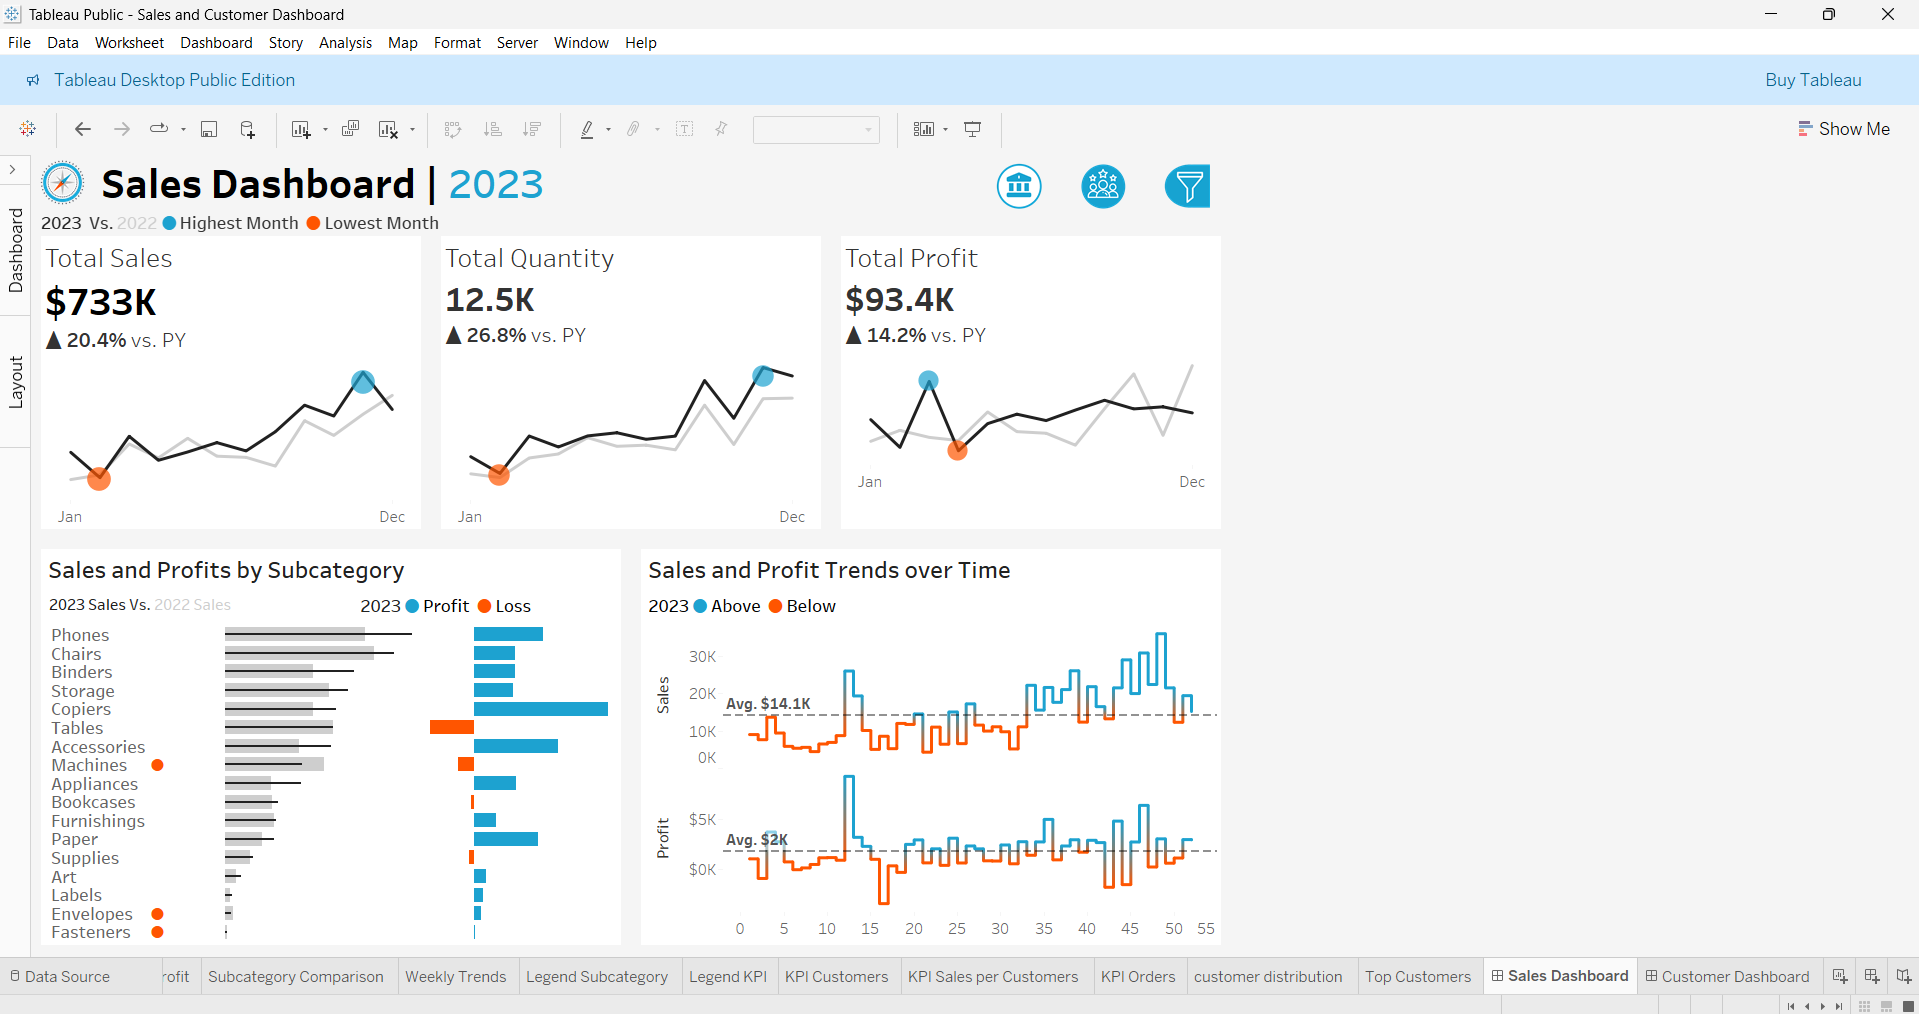

The dashboard page shown, as its layout file describes it:
{"tool":"tableau","page":{"name":"Sales Dashboard","canvas":[1200,800],"ordinal":1},"visuals":[{"type":"image","param":"Image/Icon - Logo.png","box":[0,0,63,54]},{"type":"text","box":[63,0,1137,54]},{"type":"dashboard-object","box":[946,4,84,54]},{"type":"dashboard-object","box":[1030,4,84,54]},{"type":"dashboard-object","box":[1114,4,83,54]},{"type":"text","box":[954,11,235,154]},{"type":"worksheet","title":"Legend KPI","mark":"Automatic","box":[0,54,1200,27]},{"type":"worksheet","title":"KPI Sales","mark":"Automatic","rows":["Calculation_150026225148370949"],"cols":["Order Date"],"box":[0,81,400,303]},{"type":"worksheet","title":"KPI Quantity","mark":"Automatic","rows":["Calculation_702280130237648902"],"cols":["Order Date"],"box":[400,81,400,303]},{"type":"worksheet","title":"KPI Profit","mark":"Line","rows":["Calculation_702280130258288647"],"cols":["Order Date"],"box":[800,81,400,303]},{"type":"parameter","param":"[Parameters].[Parameter 1]","box":[954,165,235,56]},{"type":"blank","box":[954,221,235,59]},{"type":"text","box":[954,280,235,32]},{"type":"filter","title":"KPI Quantity","param":"[federated.1e0hpus14uozzm112xsbg1gndge3].[none:Category:nk]","box":[954,312,235,61]},{"type":"filter","title":"KPI Quantity","param":"[federated.1e0hpus14uozzm112xsbg1gndge3].[none:Sub-Category:nk]","box":[954,373,235,61]},{"type":"text","box":[10,394,580,40]},{"type":"text","box":[610,394,580,40]},{"type":"worksheet","title":"Legend Subcategory","mark":"Automatic","box":[10,434,312,32]},{"type":"text","box":[322,434,268,32]},{"type":"text","box":[610,434,580,32]},{"type":"blank","box":[954,434,235,61]},{"type":"worksheet","title":"Subcategory Comparison","mark":"Bar","rows":["Sub-Category","Calculation_928023062233329664"],"cols":["CY Sales (copy)_150026224499830785","Calculation_150026224498855936","Calculation_702280130231177219"],"box":[10,466,580,324]},{"type":"worksheet","title":"Weekly Trends","mark":"Automatic","rows":["Calculation_150026224498855936","Calculation_702280130231177219"],"cols":["Order Date"],"box":[610,466,580,324]},{"type":"text","box":[954,495,235,32]},{"type":"filter","title":"KPI Quantity","param":"[federated.1e0hpus14uozzm112xsbg1gndge3].[none:Region:nk]","box":[954,527,235,61]},{"type":"filter","title":"KPI Quantity","param":"[federated.1e0hpus14uozzm112xsbg1gndge3].[none:State:nk]","box":[954,588,235,61]},{"type":"filter","title":"KPI Quantity","param":"[federated.1e0hpus14uozzm112xsbg1gndge3].[none:City:nk]","box":[954,649,235,90]}]}

Visuals, with their boxes on the page's 1200x800 design canvas (x1, y1, x2, y2). These are canvas units, not pixel positions in the 1919x1014 screenshot, which may show the page scaled, cropped or inside an application window:
image: select_region(0, 0, 63, 54)
text: select_region(63, 0, 1200, 54)
dashboard-object: select_region(946, 4, 1030, 58)
dashboard-object: select_region(1030, 4, 1114, 58)
dashboard-object: select_region(1114, 4, 1197, 58)
text: select_region(954, 11, 1189, 165)
"Legend KPI" worksheet: select_region(0, 54, 1200, 81)
"KPI Sales" worksheet: select_region(0, 81, 400, 384)
"KPI Quantity" worksheet: select_region(400, 81, 800, 384)
"KPI Profit" worksheet (Line marks): select_region(800, 81, 1200, 384)
parameter: select_region(954, 165, 1189, 221)
blank: select_region(954, 221, 1189, 280)
text: select_region(954, 280, 1189, 312)
"KPI Quantity" filter: select_region(954, 312, 1189, 373)
"KPI Quantity" filter: select_region(954, 373, 1189, 434)
text: select_region(10, 394, 590, 434)
text: select_region(610, 394, 1190, 434)
"Legend Subcategory" worksheet: select_region(10, 434, 322, 466)
text: select_region(322, 434, 590, 466)
text: select_region(610, 434, 1190, 466)
blank: select_region(954, 434, 1189, 495)
"Subcategory Comparison" worksheet (Bar marks): select_region(10, 466, 590, 790)
"Weekly Trends" worksheet: select_region(610, 466, 1190, 790)
text: select_region(954, 495, 1189, 527)
"KPI Quantity" filter: select_region(954, 527, 1189, 588)
"KPI Quantity" filter: select_region(954, 588, 1189, 649)
"KPI Quantity" filter: select_region(954, 649, 1189, 739)
